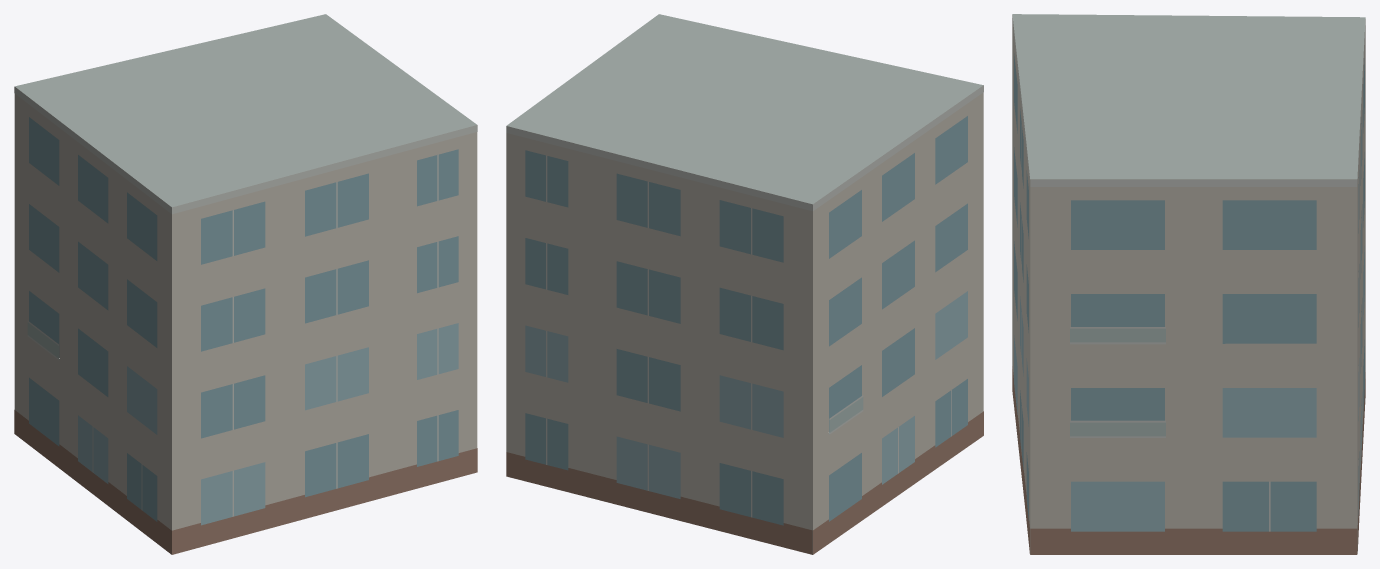
File: survey-upis-32840096.glb
The picture shows the model from 3 angles, left to right: view 1: azimuth 30°, elevation 25°; view 2: azimuth 150°, elevation 25°; view 3: azimuth 270°, elevation 25°; orthographic projection. The views are drawn at different scales.
Parts seen in each view (by area): view 1: survey-upis-32840096.tmp; view 2: survey-upis-32840096.tmp; view 3: survey-upis-32840096.tmp.
Part boxes in pixels (left/top/right/bottom): survey-upis-32840096.tmp: left=14, top=14, right=477, bottom=554; survey-upis-32840096.tmp: left=506, top=14, right=983, bottom=554; survey-upis-32840096.tmp: left=1012, top=14, right=1365, bottom=554.
Bounding box in the file's own units: 11.57 × 12.2 × 10.41.
